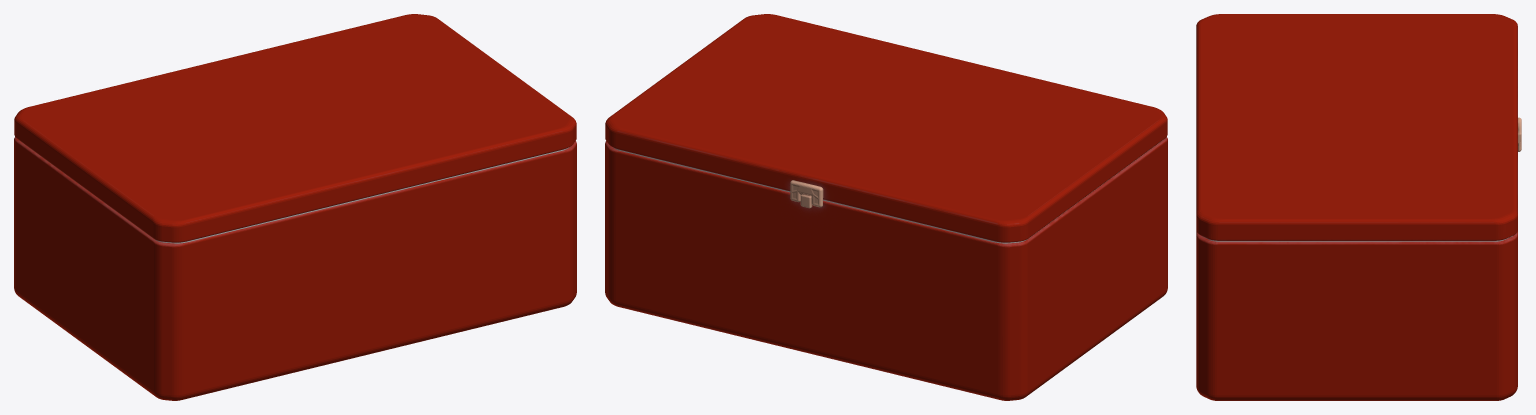
File: cargo 2 fix.fbx
3 views of the same model, side by side, from view 1: azimuth 30°, elevation 25°; view 2: azimuth 150°, elevation 25°; view 3: azimuth 270°, elevation 25° (orthographic).
Parts seen in each view (by area): view 1: crate's; view 2: crate's; view 3: crate's.
Boxes of the visible parts, box(x1,y1,x2,y2) form: crate's: box(14, 14, 576, 400); crate's: box(605, 14, 1167, 400); crate's: box(1196, 14, 1521, 400).
Size of the model in its own units: 157 by 64.36 by 104.
